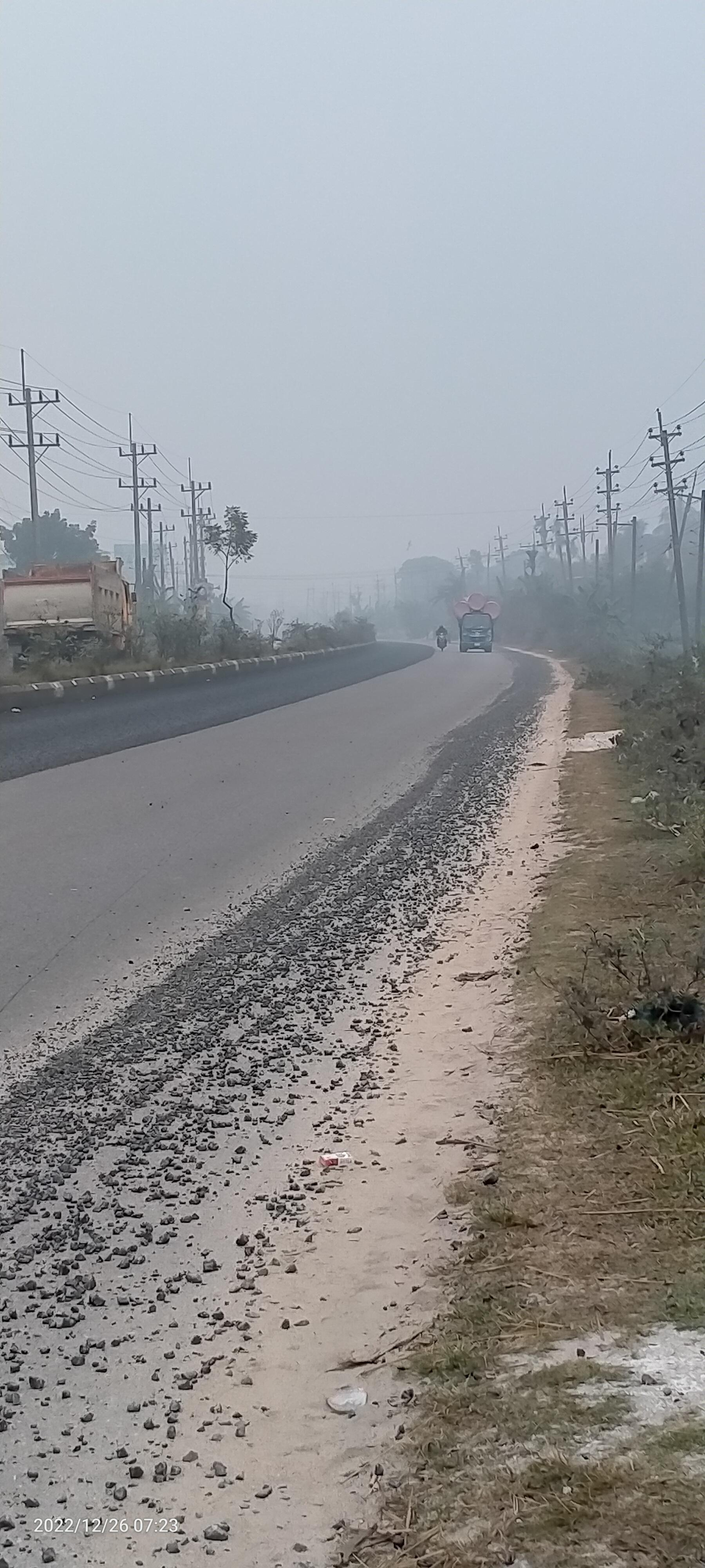Bike: (423, 612, 462, 658)
Truck: (0, 547, 163, 666), (447, 586, 512, 664)
